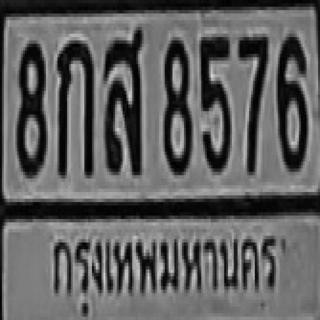A01: (56, 37, 92, 175)
A40: (103, 27, 141, 172)
N05: (199, 34, 230, 168)
N06: (276, 30, 307, 168)
N07: (238, 32, 266, 170)
N08: (15, 39, 44, 173), (163, 34, 190, 172)
P04: (44, 223, 281, 314)
